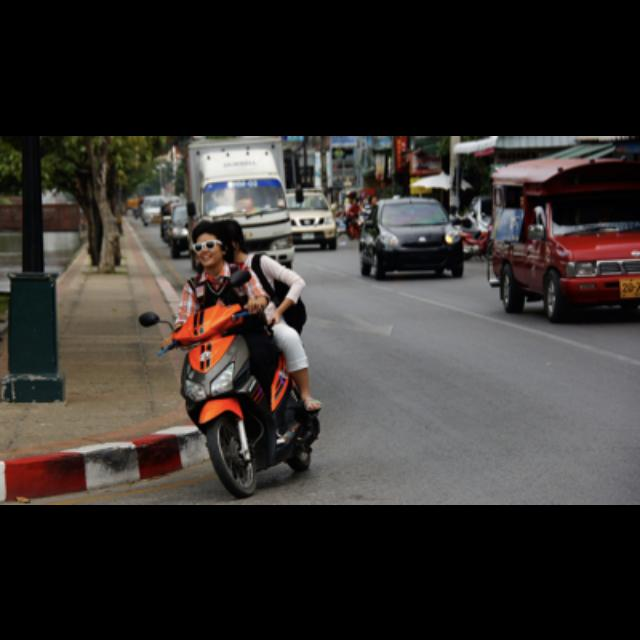Without Helmet: (184, 213, 232, 269)
